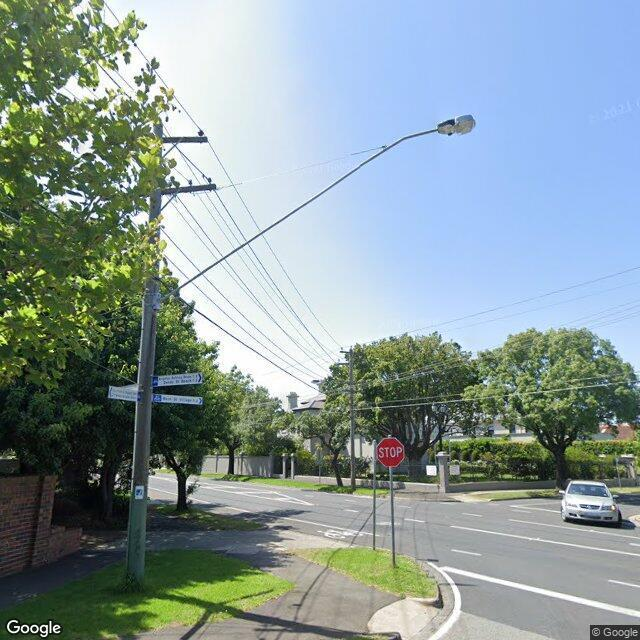HV-transmission: (104, 116, 209, 146)
crossarm: (120, 177, 218, 199), (104, 136, 209, 146)
streetlight: (156, 113, 476, 311)
timber-pole: (123, 122, 165, 589)
